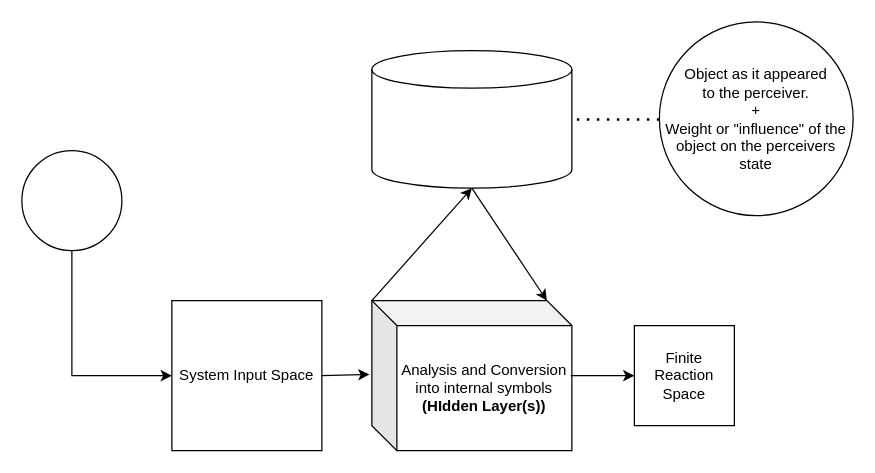
This 875x473 diagram has some shape labels left out. Each missing label, with the box of its shape:
Object As It Is: (21, 149, 122, 251)
Store Of Objects As They Were Perceived Symbolic Relation: (371, 49, 572, 188)
